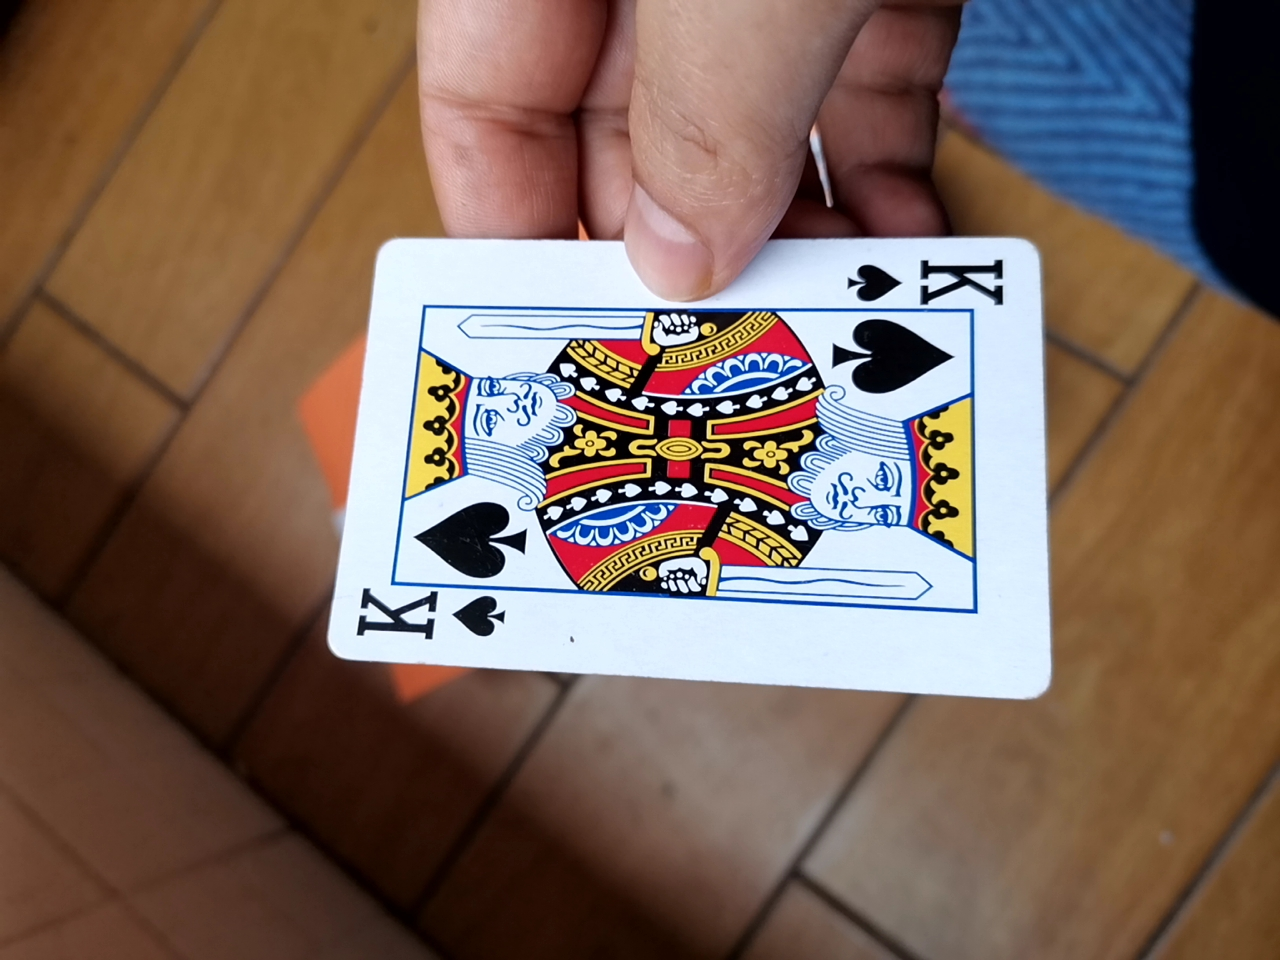ht k: (306, 226, 1038, 698)
